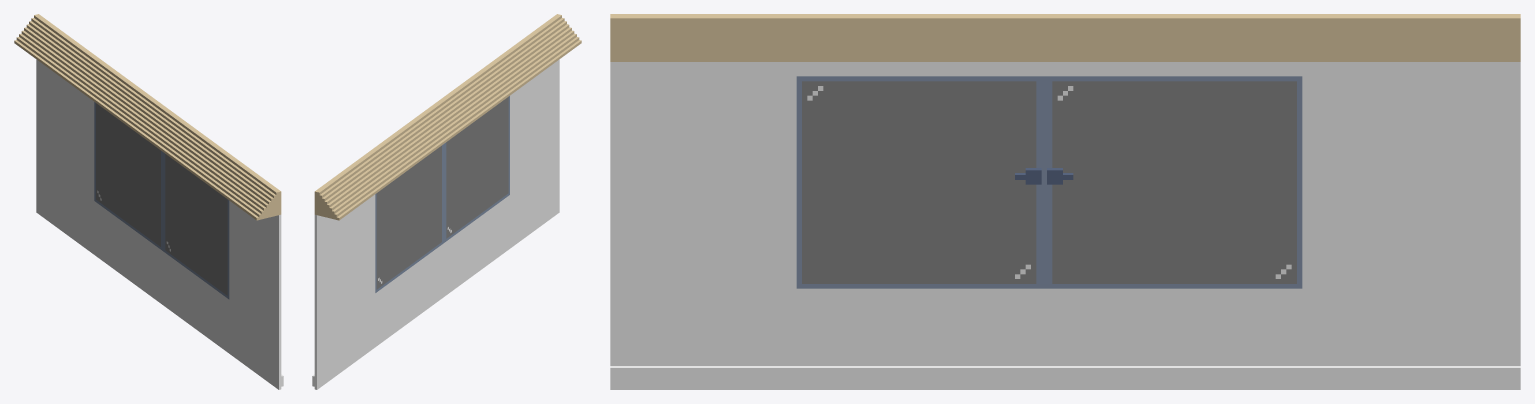
File: NeighborsWall-0-OtherWall1.obj
The picture shows the model from 3 angles, left to right: view 1: azimuth 30°, elevation 25°; view 2: azimuth 150°, elevation 25°; view 3: azimuth 270°, elevation 25°; orthographic projection. The views are drawn at different scales.
Visible parts, largest first — view 1: OtherWall1; view 2: OtherWall1; view 3: OtherWall1.
Part boxes in pixels (left/top/right/bottom): OtherWall1: left=14, top=14, right=283, bottom=389; OtherWall1: left=312, top=14, right=581, bottom=389; OtherWall1: left=610, top=14, right=1520, bottom=389.
Bounding box in the file's own units: 1.1 × 7.7 × 17.1.
Materials: 1 (1 with a texture image).
